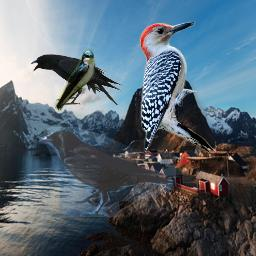Crow: (39, 127, 176, 217), (30, 54, 123, 105)
Swallow: (54, 49, 96, 112)
Woodpecker: (133, 16, 222, 164)
